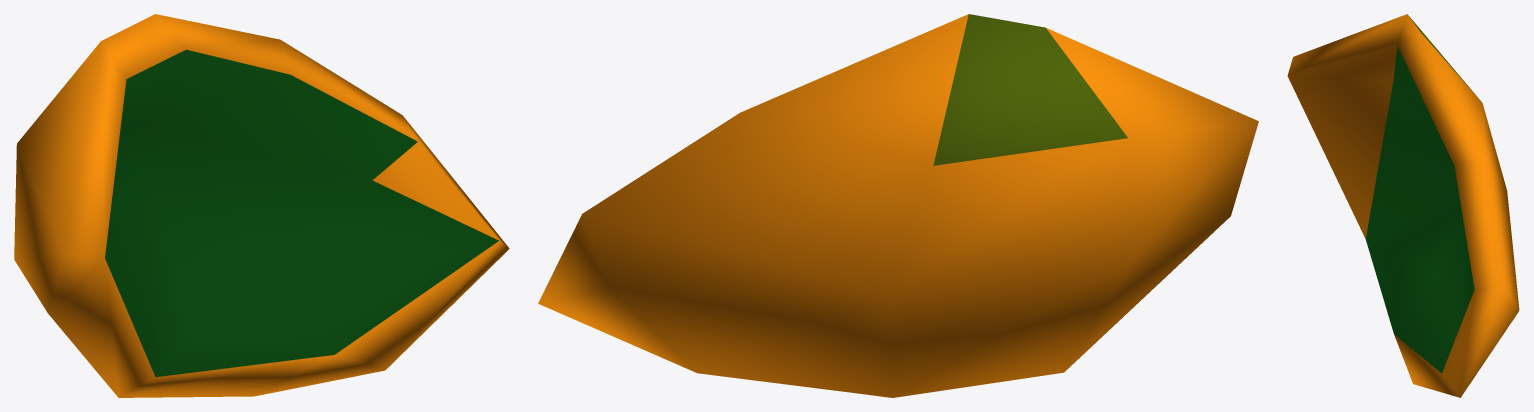
3 views of the same model, side by side, from view 1: azimuth 30°, elevation 25°; view 2: azimuth 150°, elevation 25°; view 3: azimuth 270°, elevation 25° (orthographic). The views are drawn at different scales.
Parts seen in each view (by area): view 1: Pumpkin_01.001_cell.004; view 2: Pumpkin_01.001_cell.004; view 3: Pumpkin_01.001_cell.004.
Part boxes in pixels (x1,y1,x2,y2): Pumpkin_01.001_cell.004: (14, 14, 509, 397); Pumpkin_01.001_cell.004: (538, 14, 1258, 397); Pumpkin_01.001_cell.004: (1287, 14, 1519, 397).
Bounding box in the file's own units: 1.27 × 0.8712 × 0.6606.
Materials: 2 (2 with a texture image).
